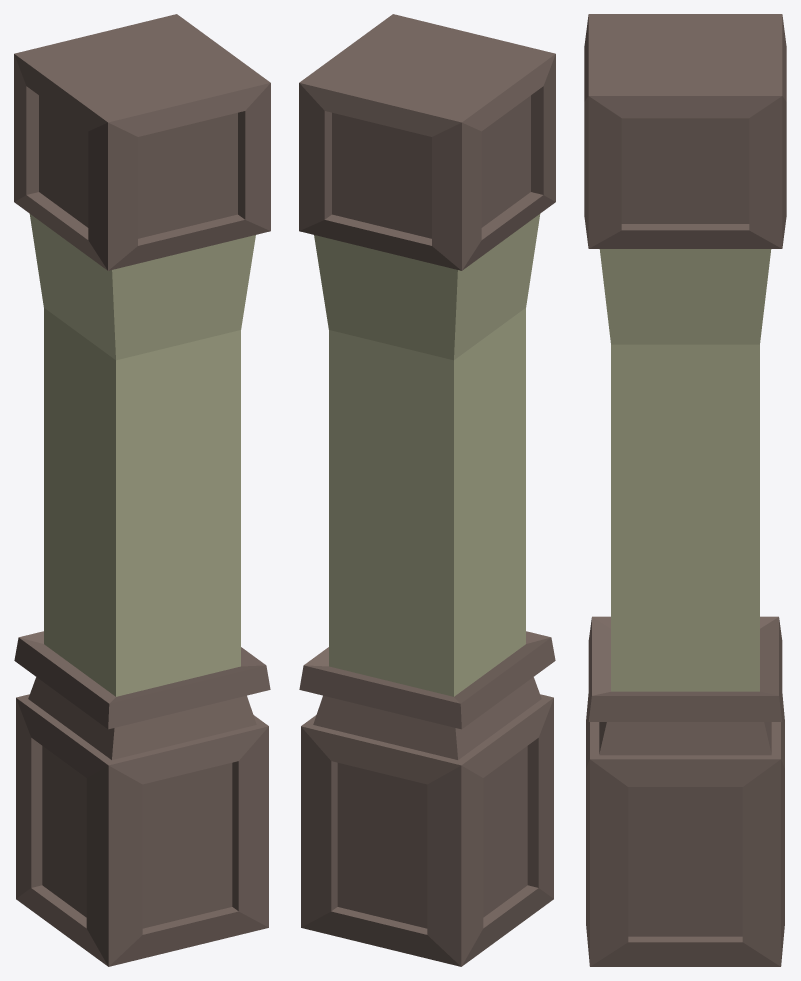
Rendered from Cube_pillar_Full.fbx.
The picture shows the model from 3 angles, left to right: view 1: azimuth 30°, elevation 25°; view 2: azimuth 150°, elevation 25°; view 3: azimuth 270°, elevation 25°; orthographic projection. The views are drawn at different scales.
Parts seen in each view (by area): view 1: Cube_pillar_Full; view 2: Cube_pillar_Full; view 3: Cube_pillar_Full.
Part boxes in pixels (box(x1,y1,x2,y2)): Cube_pillar_Full: box(14, 14, 270, 966); Cube_pillar_Full: box(299, 14, 555, 966); Cube_pillar_Full: box(584, 14, 786, 966).
Bounding box in the file's own units: 123 × 585 × 123.
